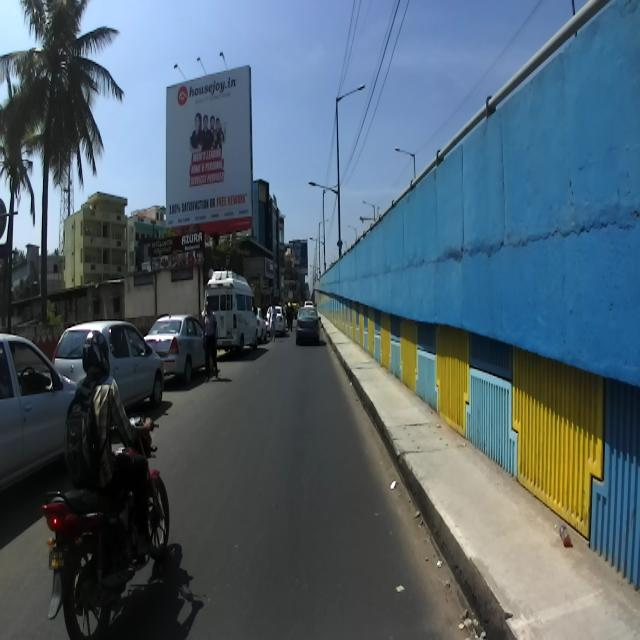motorcycle ahead at: (44, 415, 174, 640)
